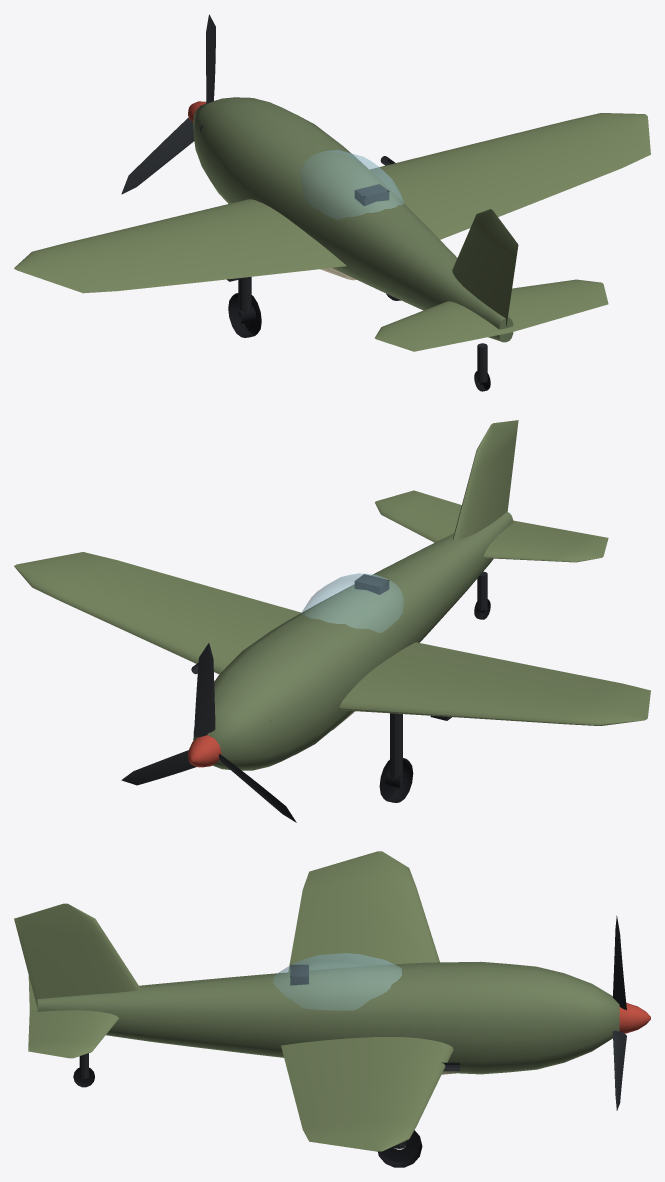
Rendered from sparrow.glb.
The picture shows the model from 3 angles, top to bottom: view 1: azimuth 30°, elevation 25°; view 2: azimuth 150°, elevation 25°; view 3: azimuth 270°, elevation 25°; orthographic projection. The views are drawn at different scales.
Visible parts, largest first — view 1: AIRFRAME, HULL, GLASS, PROP_0; view 2: AIRFRAME, HULL, PROP_0, GLASS; view 3: AIRFRAME, HULL, GLASS, PROP_0.
Boxes of the visible parts, <box> form: AIRFRAME: <box>14,113,650,391</box>; HULL: <box>193,97,513,342</box>; GLASS: <box>300,150,403,219</box>; PROP_0: <box>121,14,215,194</box>; AIRFRAME: <box>14,420,650,802</box>; HULL: <box>193,512,513,770</box>; PROP_0: <box>121,643,296,822</box>; GLASS: <box>300,573,403,632</box>; AIRFRAME: <box>14,851,459,1167</box>; HULL: <box>37,961,619,1074</box>; GLASS: <box>273,953,401,1010</box>; PROP_0: <box>612,915,650,1110</box>.
Bounding box in the file's own units: 10 × 3.52 × 8.97.
